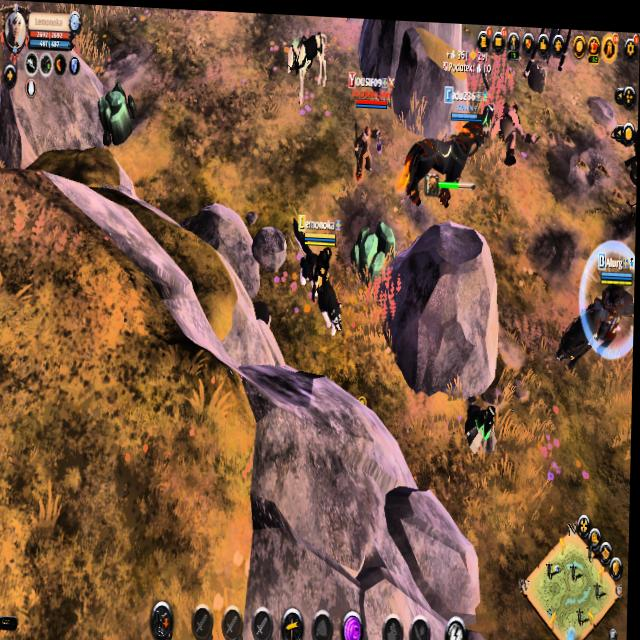ore tier 3: (464, 393, 502, 454)
rock tier 3: (351, 215, 401, 288), (97, 74, 140, 150)
